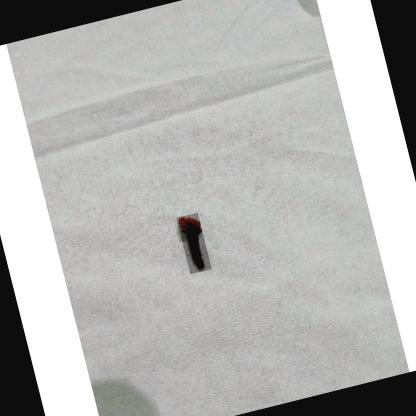buruk: (179, 216, 205, 271)
